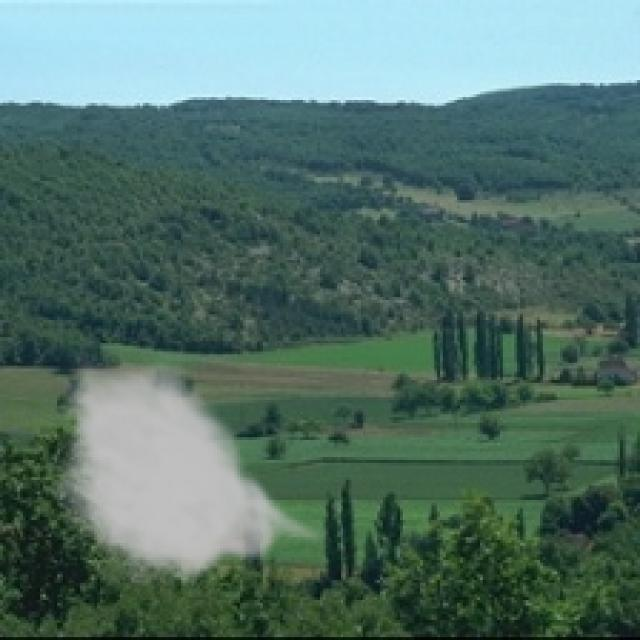smoke: (51, 348, 332, 592)
